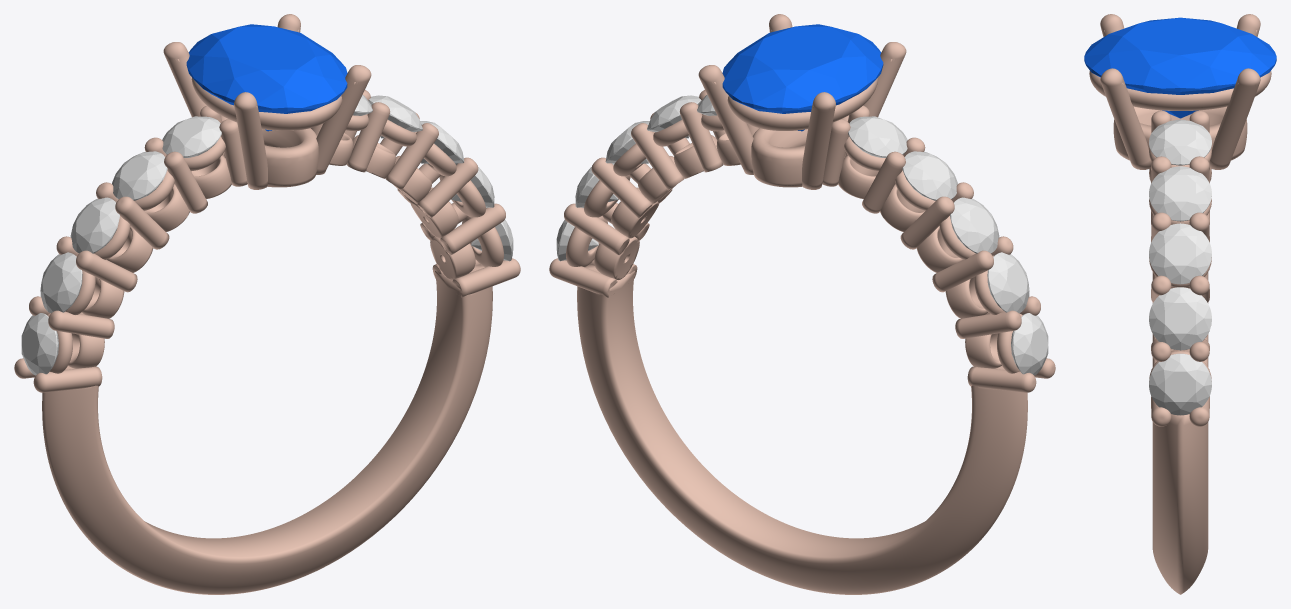
File: bluesapphire-oval-rosegold-4prong-knifeedge-11stone.glb
3 views of the same model, side by side, from view 1: azimuth 30°, elevation 25°; view 2: azimuth 150°, elevation 25°; view 3: azimuth 270°, elevation 25° (orthographic).
Parts seen in each view (by area): view 1: metal, stone, side.002, side.003, side.001, side.004, side, side.008, side.007; view 2: metal, stone, side.002, side.003, side.001, side.004, side, side.008, side.007; view 3: metal, stone, side.006, side.005, side.007, side.008, side.009.
Part boxes in pixels (x1,y1,x2,y2): metal: [14, 14, 520, 594]; stone: [186, 24, 347, 131]; side.002: [70, 197, 119, 253]; side.003: [112, 151, 167, 200]; side.001: [40, 252, 82, 313]; side.004: [162, 116, 221, 157]; side: [21, 313, 58, 375]; side.008: [368, 95, 422, 138]; side.007: [420, 121, 464, 163]; metal: [549, 14, 1055, 594]; stone: [722, 24, 883, 131]; side.002: [950, 197, 999, 253]; side.003: [902, 151, 957, 200]; side.001: [987, 252, 1029, 313]; side.004: [848, 116, 907, 157]; side: [1011, 313, 1048, 375]; side.008: [647, 95, 701, 138]; side.007: [605, 121, 649, 163]; metal: [1089, 14, 1271, 594]; stone: [1084, 17, 1276, 118]; side.006: [1149, 287, 1211, 350]; side.005: [1149, 353, 1211, 415]; side.007: [1149, 223, 1211, 284]; side.008: [1149, 166, 1211, 221]; side.009: [1149, 119, 1211, 165].
Size of the model in its own units: 21.88 by 23.4 by 7.64.
